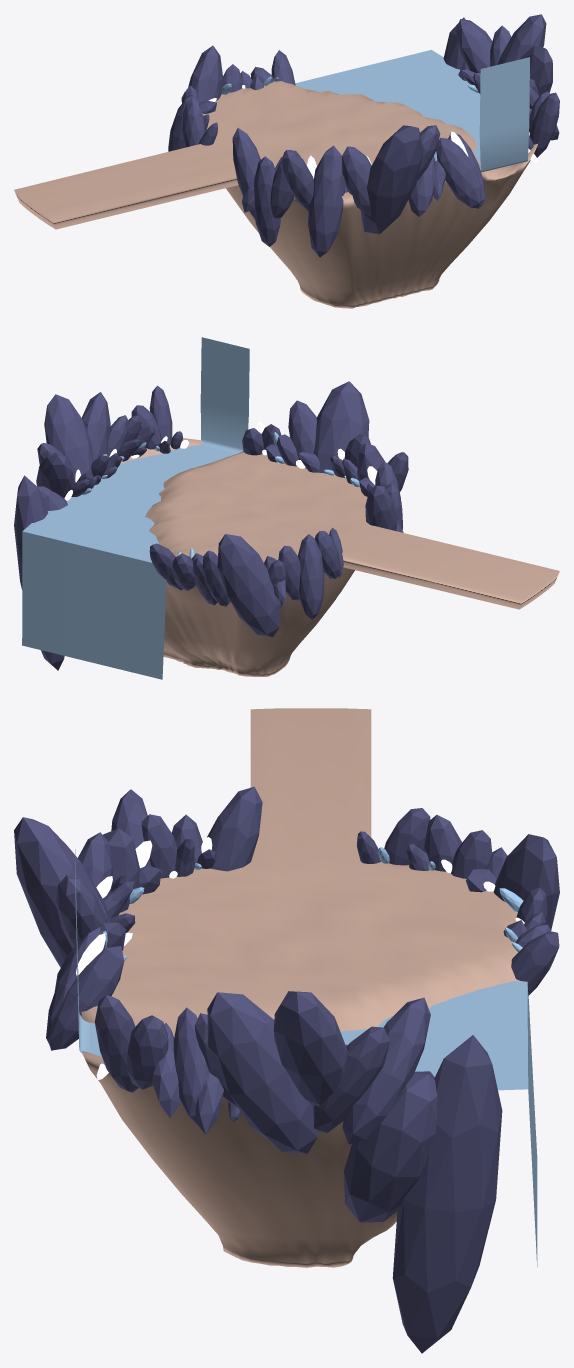
The model's file is SpawnRoom.fbx.
3 renders of one model, top to bottom at view 1: azimuth 30°, elevation 25°; view 2: azimuth 150°, elevation 25°; view 3: azimuth 270°, elevation 25°, orthographic. The views are drawn at different scales.
Parts seen in each view (by area): view 1: suelo, Plane, Icosphere.016, Icosphere.020, Icosphere.014, Icosphere.023, Icosphere.019, Icosphere.003, Icosphere.012, Icosphere.024, Icosphere, Icosphere.021 (+12 smaller); view 2: suelo, Plane, Icosphere.012, Icosphere.016, Icosphere, Icosphere.010, Icosphere.077, Icosphere.002, Icosphere.015, Icosphere.003, Icosphere.024, Icosphere.008 (+15 smaller); view 3: suelo, Icosphere.010, Plane, Icosphere.002, Icosphere.078, Icosphere, Icosphere.016, Icosphere.003, Icosphere.001, Icosphere.046, Icosphere.012, Icosphere.024 (+16 smaller).
Part boxes in pixels (left/top/right/bottom): suelo: left=14, top=81, right=537, bottom=308; Plane: left=295, top=50, right=529, bottom=172; Icosphere.016: left=361, top=125, right=423, bottom=234; Icosphere.020: left=308, top=145, right=345, bottom=257; Icosphere.014: left=436, top=137, right=481, bottom=208; Icosphere.023: left=254, top=156, right=280, bottom=246; Icosphere.019: left=342, top=146, right=371, bottom=216; Icosphere.003: left=456, top=19, right=492, bottom=72; Icosphere.012: left=188, top=45, right=222, bottom=102; Icosphere.024: left=232, top=128, right=260, bottom=219; Icosphere: left=497, top=14, right=546, bottom=64; Icosphere.021: left=282, top=150, right=313, bottom=210; suelo: left=120, top=437, right=559, bottom=676; Plane: left=22, top=337, right=249, bottom=679; Icosphere.012: left=217, top=534, right=280, bottom=637; Icosphere.016: left=313, top=381, right=369, bottom=473; Icosphere: left=44, top=394, right=93, bottom=482; Icosphere.010: left=14, top=475, right=64, bottom=670; Icosphere.077: left=298, top=534, right=324, bottom=619; Icosphere.002: left=82, top=392, right=110, bottom=460; Icosphere.015: left=288, top=400, right=317, bottom=468; Icosphere.003: left=36, top=452, right=74, bottom=498; Icosphere.024: left=365, top=485, right=397, bottom=530; Icosphere.008: left=149, top=385, right=172, bottom=445; suelo: left=81, top=708, right=519, bottom=1267; Icosphere.010: left=392, top=1035, right=502, bottom=1353; Plane: left=75, top=849, right=537, bottom=1266; Icosphere.002: left=207, top=992, right=317, bottom=1153; Icosphere.078: left=343, top=1071, right=437, bottom=1222; Icosphere: left=273, top=991, right=347, bottom=1106; Icosphere.016: left=14, top=817, right=110, bottom=967; Icosphere.003: left=342, top=997, right=430, bottom=1144; Icosphere.001: left=313, top=1026, right=389, bottom=1132; Icosphere.046: left=48, top=946, right=124, bottom=1050; Icosphere.012: left=493, top=834, right=559, bottom=930; Icosphere.024: left=207, top=786, right=262, bottom=871.
Size of the model in its own units: 3711 by 1900 by 2144.
